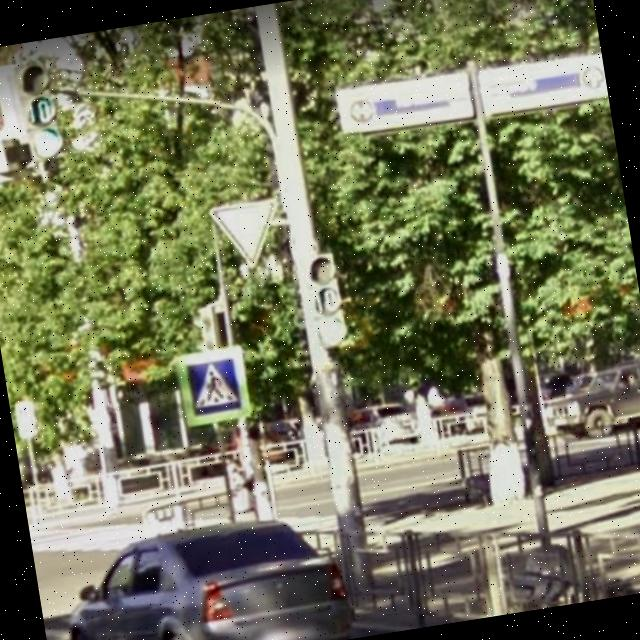Przejscie dla pieszych: (171, 347, 253, 427)
Ustap pierwszenstwa: (203, 188, 291, 278)
